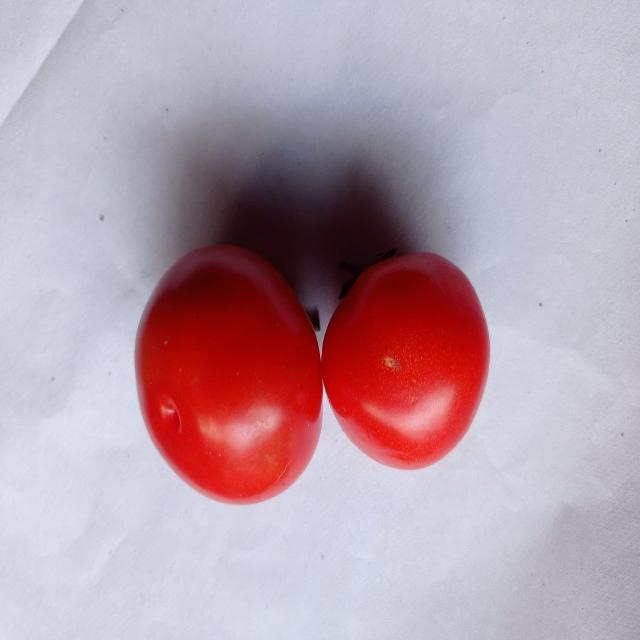Ripe: (132, 239, 324, 510), (323, 246, 492, 473)
